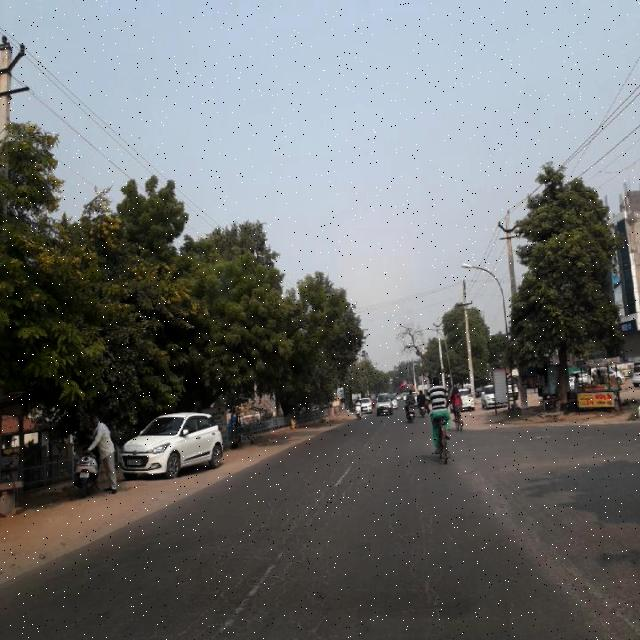D00: (403, 479, 447, 639)
D20: (195, 511, 342, 636)
D44: (218, 542, 290, 636)
